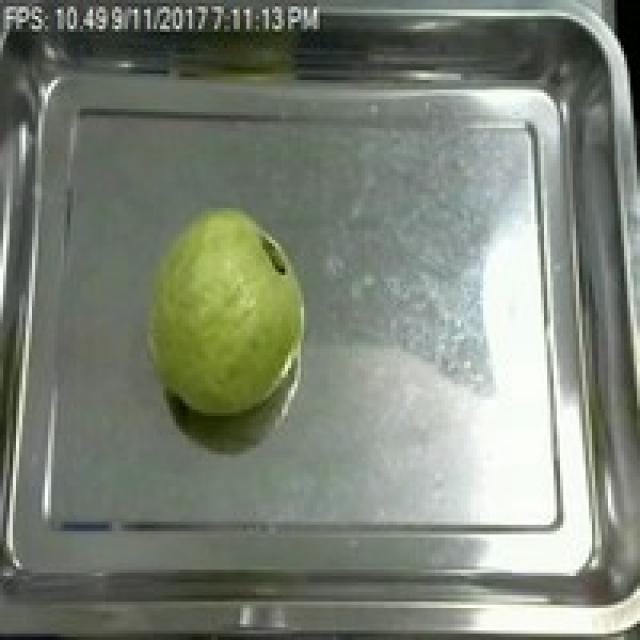Fruit: (134, 195, 317, 426)
